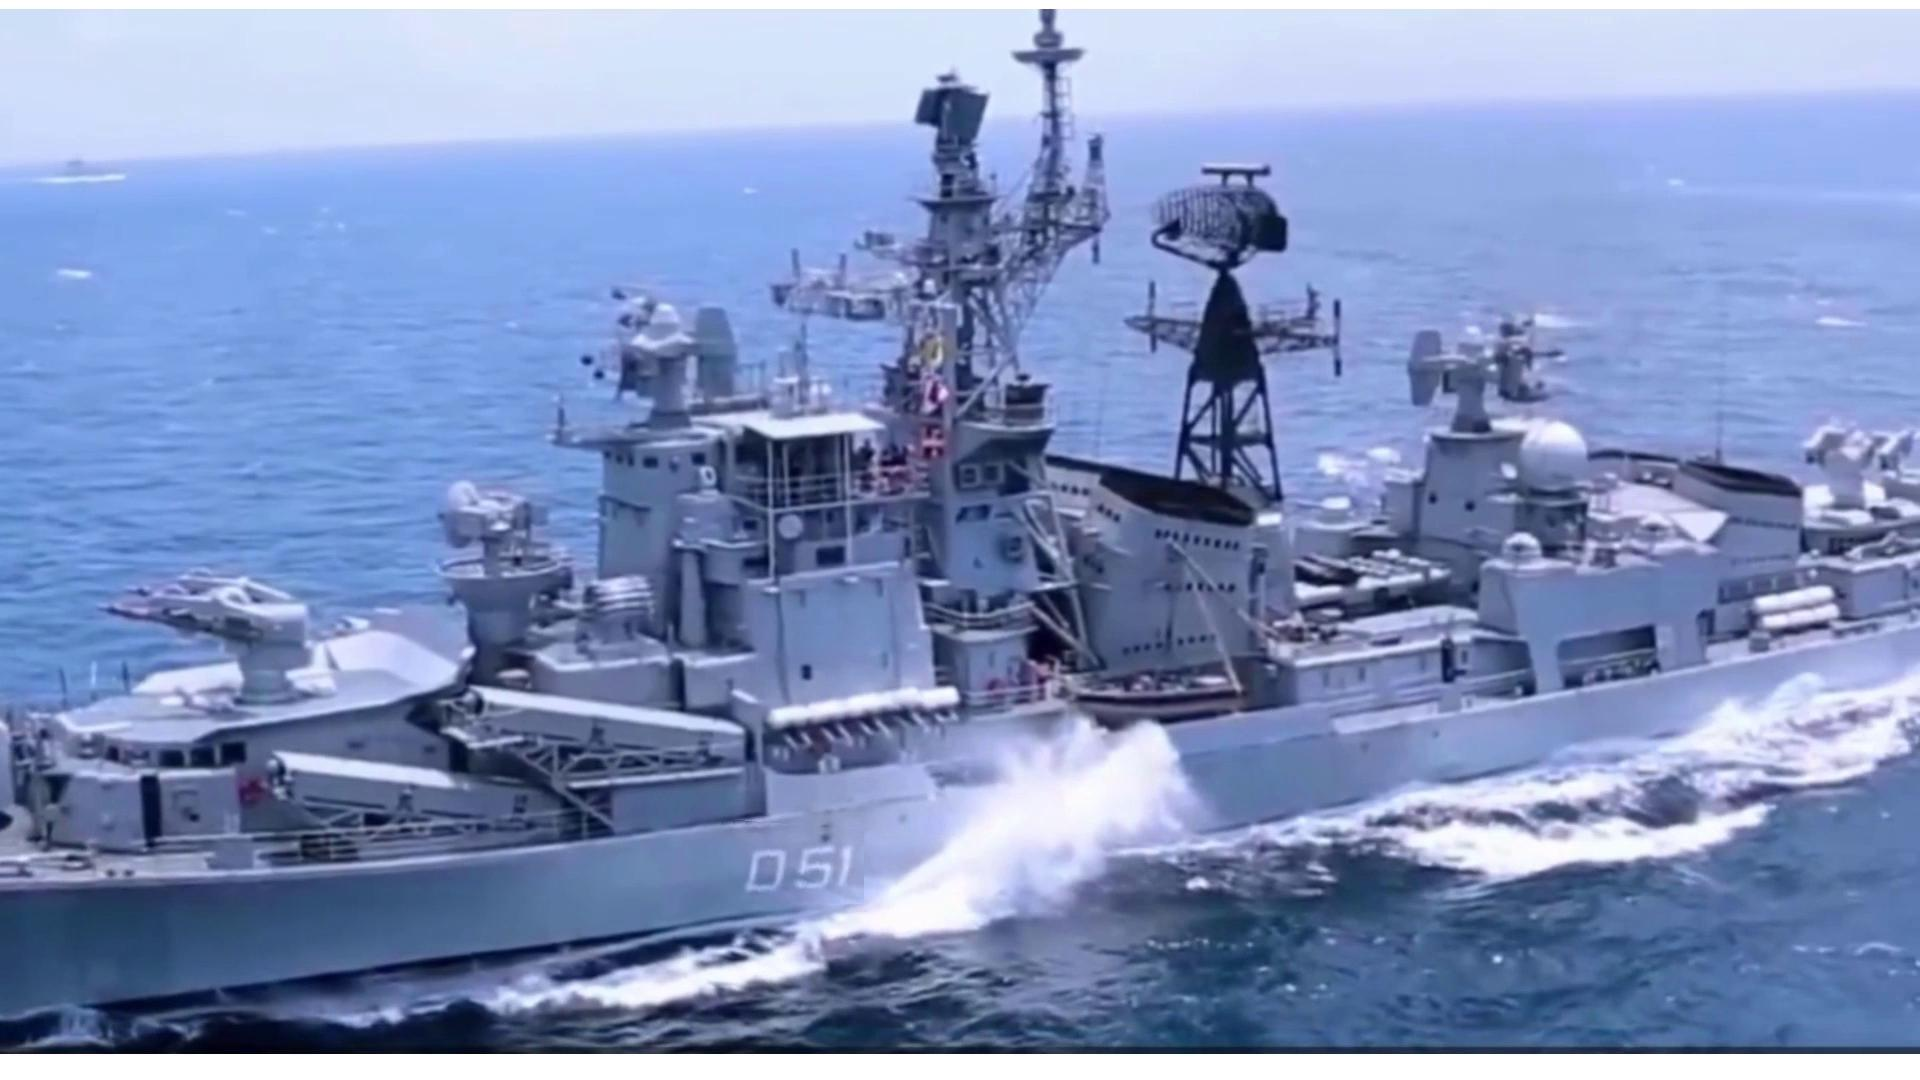OCR: (714, 818, 864, 904)
